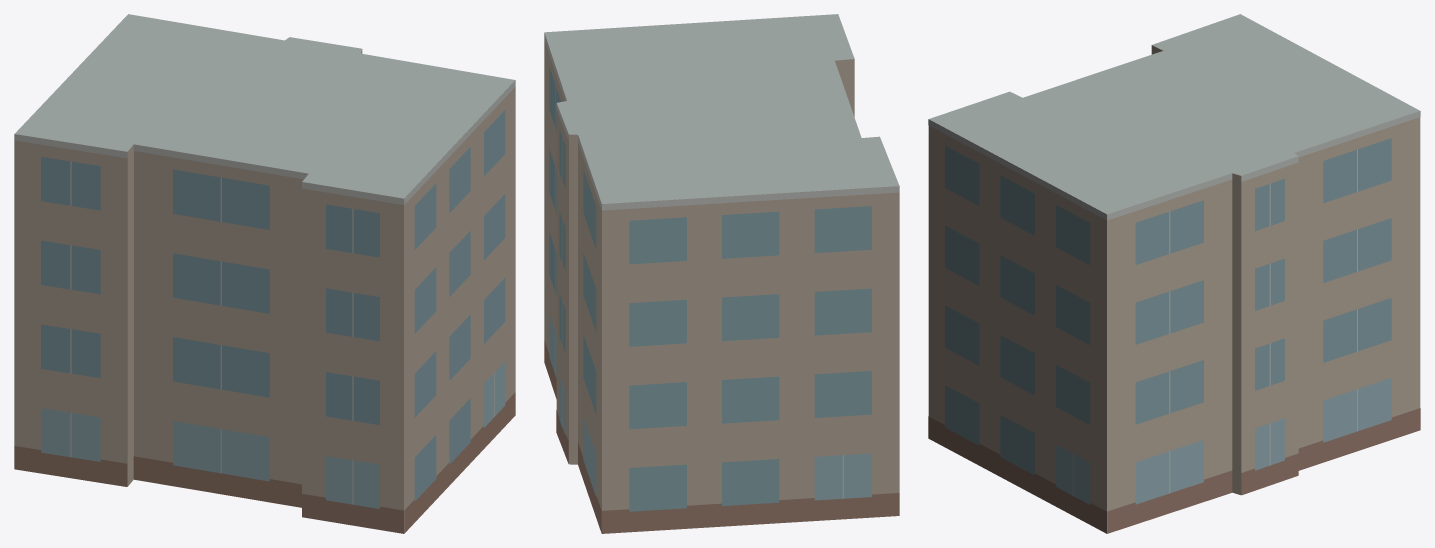
Rendered from survey-upis-33003505.glb.
3 renders of one model, left to right at view 1: azimuth 30°, elevation 25°; view 2: azimuth 150°, elevation 25°; view 3: azimuth 270°, elevation 25°, orthographic. The views are drawn at different scales.
Parts seen in each view (by area): view 1: survey-upis-33003505.tmp; view 2: survey-upis-33003505.tmp; view 3: survey-upis-33003505.tmp.
Part boxes in pixels (x1,y1,x2,y2): survey-upis-33003505.tmp: (14,14,515,533); survey-upis-33003505.tmp: (544,14,899,533); survey-upis-33003505.tmp: (928,14,1420,533).
Size of the model in its own units: 16.97 by 12.6 by 17.59.
